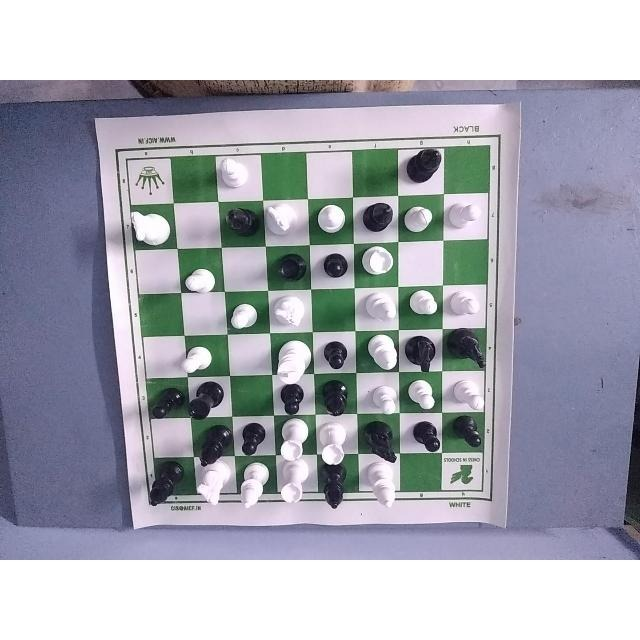black-bishop: (141, 463, 184, 510), (191, 423, 233, 469), (320, 464, 356, 516), (404, 143, 446, 185), (319, 379, 357, 419), (359, 197, 397, 235), (223, 202, 258, 238)
black-knight: (360, 419, 403, 462), (405, 331, 441, 376), (448, 328, 488, 368)
black-pawn: (450, 417, 491, 453), (148, 385, 184, 423), (411, 419, 443, 459), (321, 242, 350, 283), (321, 332, 350, 373), (241, 419, 267, 458), (281, 387, 305, 419)
black-rook: (191, 380, 229, 419), (277, 251, 307, 287)
white-bishop: (367, 466, 401, 514), (235, 462, 265, 510), (315, 201, 349, 237), (361, 288, 395, 324), (366, 333, 397, 370)
white-king: (263, 343, 314, 385)
white-knight: (131, 203, 175, 259), (192, 471, 232, 513), (270, 290, 306, 334), (268, 200, 304, 236)
white-pawn: (447, 195, 485, 238), (360, 377, 400, 416), (448, 379, 495, 411), (226, 295, 261, 332), (219, 152, 254, 188), (403, 380, 443, 411), (176, 346, 214, 376), (409, 287, 441, 321), (183, 264, 214, 296), (402, 203, 433, 235), (450, 286, 481, 318)
white-rook: (355, 243, 402, 281), (279, 459, 315, 507), (318, 419, 353, 461), (275, 420, 315, 456)
